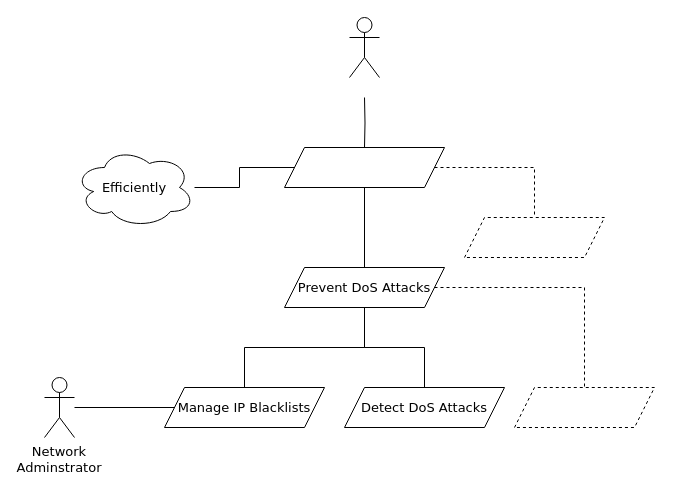
Some shapes in this 673 by 493 pixel diagram are drawn without their labels. The shapes that lost their labels are listed below. From the top down, each one's box as (x1, y1, x2, y2) in pixels, then its label:
(348, 16, 380, 78): Firewall
(284, 146, 444, 188): Maintain Network Security
